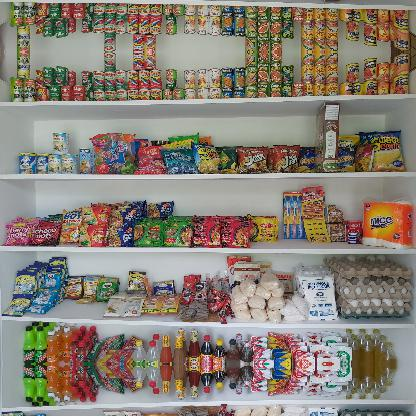Koko-Krunch: (314, 102, 340, 172)
